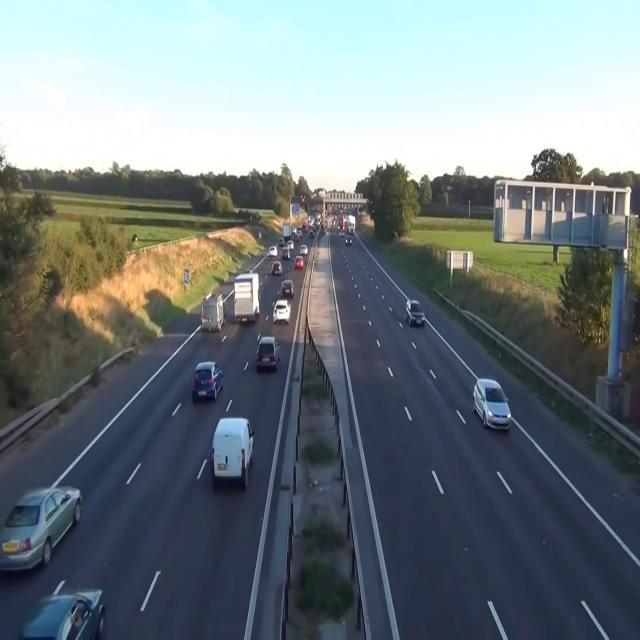belum terisi: (1, 465, 86, 575), (19, 592, 109, 640), (209, 410, 259, 495), (468, 368, 518, 444), (228, 268, 264, 329), (188, 354, 228, 406), (195, 286, 228, 338), (254, 323, 281, 381), (402, 290, 428, 336), (272, 298, 292, 330)
